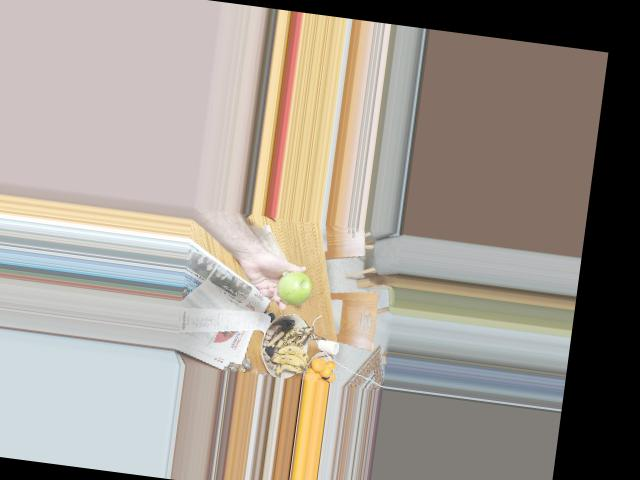apple: (270, 266, 317, 308)
